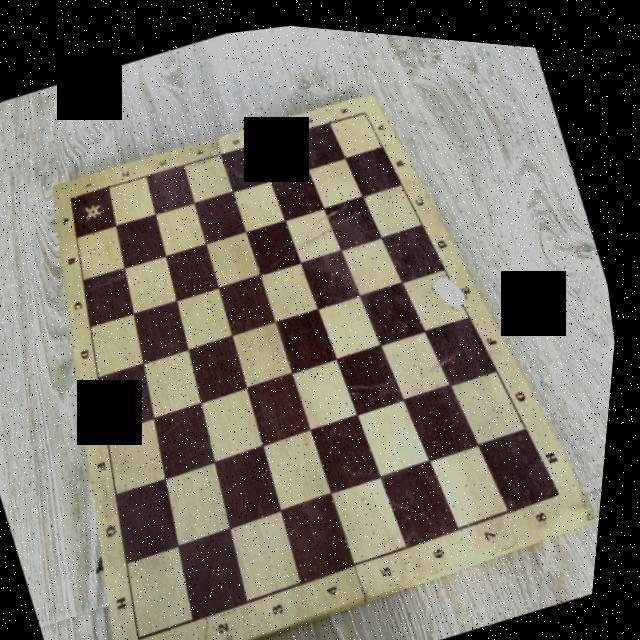chess-table-corners: (550, 463, 584, 500), (132, 615, 168, 640), (356, 93, 377, 117), (66, 185, 84, 207)
